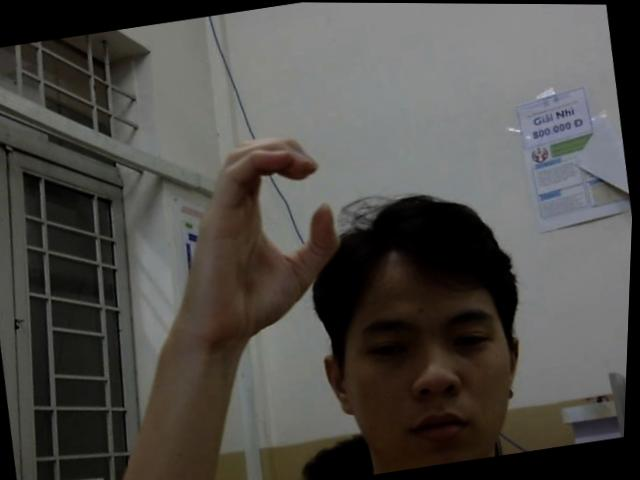C: (161, 126, 358, 354)
